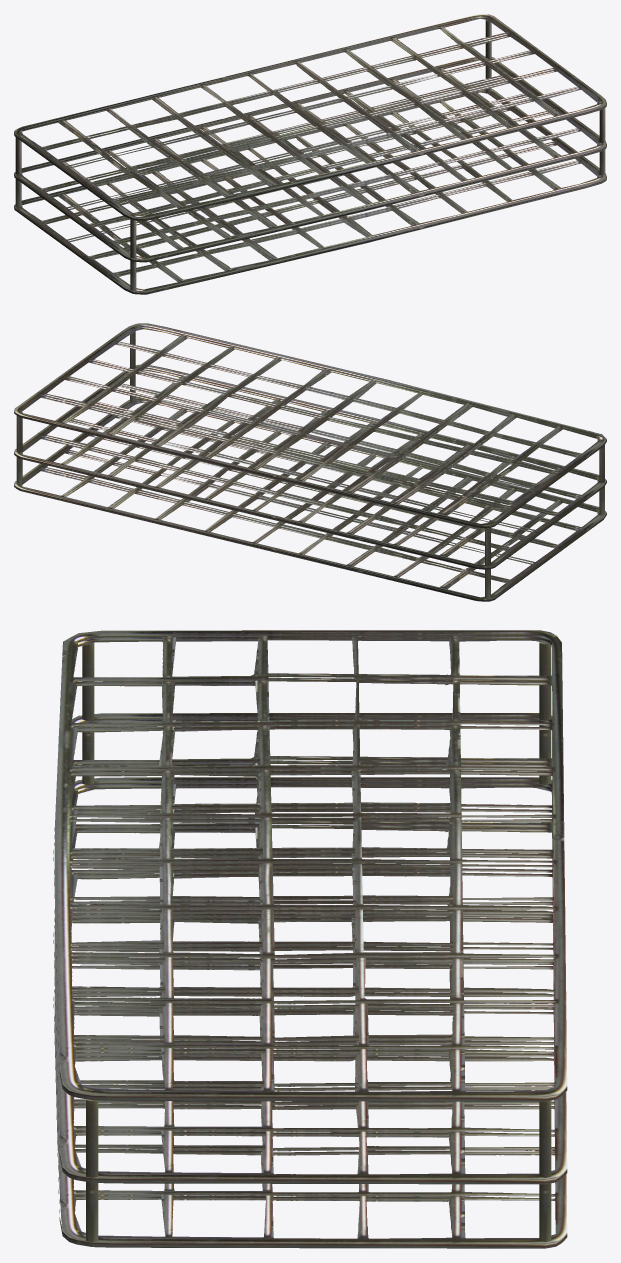
Rendered from Test_tube_Rack.fbx.
The picture shows the model from 3 angles, top to bottom: view 1: azimuth 30°, elevation 25°; view 2: azimuth 150°, elevation 25°; view 3: azimuth 270°, elevation 25°; orthographic projection. The views are drawn at different scales.
Parts seen in each view (by area): view 1: polySurface16, polySurface17, polySurface18, pCylinder7, pCylinder6, pCylinder5; view 2: polySurface16, polySurface17, polySurface18, pCylinder4, pCylinder6; view 3: polySurface16, polySurface17, polySurface18, pCylinder5, pCylinder4, pCylinder6, pCylinder7.
Boxes of the visible parts, x1,y1,x2,y2 form: polySurface16: (14,14,606,220); polySurface17: (14,55,606,262); polySurface18: (14,89,606,294); pCylinder7: (130,219,136,290); pCylinder6: (15,137,21,206); pCylinder5: (599,108,605,175); polySurface16: (14,323,606,528); polySurface17: (14,364,606,569); polySurface18: (14,397,606,601); pCylinder4: (16,412,22,484); pCylinder6: (485,528,490,598); polySurface16: (53,630,567,1101); polySurface17: (53,713,567,1184); polySurface18: (53,777,567,1248); pCylinder5: (86,1099,98,1242); pCylinder4: (539,1100,551,1242); pCylinder6: (539,642,551,787); pCylinder7: (82,643,94,787).
Size of the model in its own units: 0.5596 by 0.0845 by 0.26.
